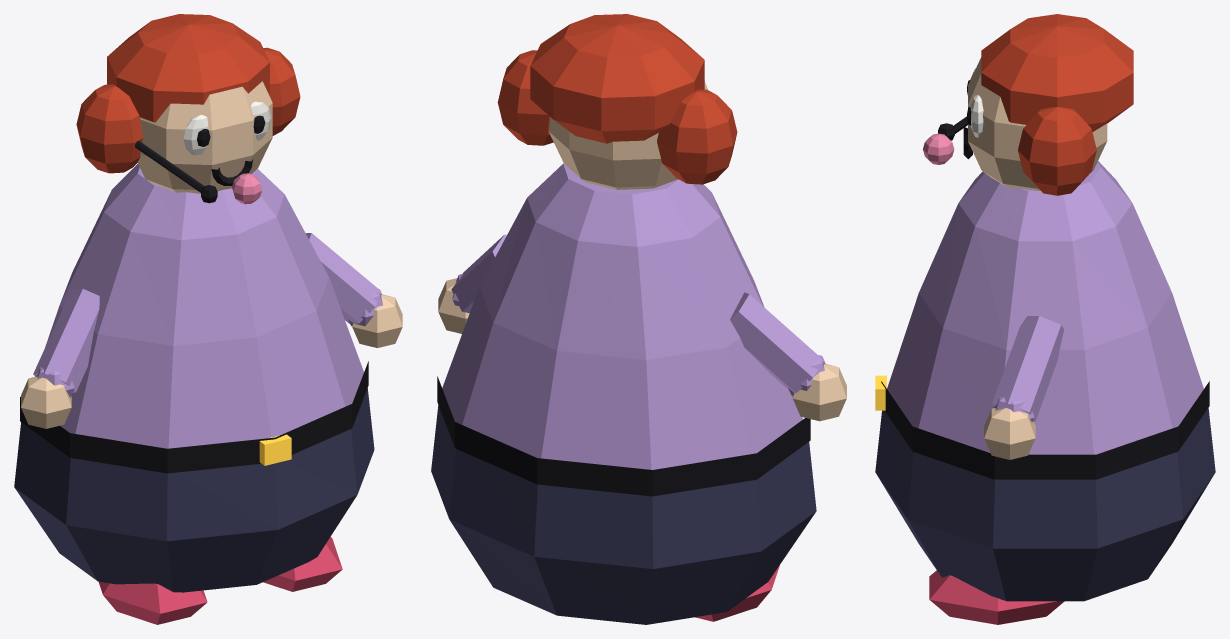
File: npc_recepcionista_seguros.glb
The picture shows the model from 3 angles, left to right: view 1: azimuth 30°, elevation 25°; view 2: azimuth 150°, elevation 25°; view 3: azimuth 270°, elevation 25°; orthographic projection. The views are drawn at different scales.
Visible parts, largest first — view 1: body_reception_cardigan, body_reception_skirt, head_hair_red_curls, head_skin_crema, body_black, arms_reception_cardigan, legs_reception_shoes, arms_skin_crema, face_white, props_black, body_gold, face_black (+1 smaller); view 2: body_reception_cardigan, body_reception_skirt, head_hair_red_curls, body_black, arms_reception_cardigan, head_skin_crema, arms_skin_crema, legs_reception_shoes; view 3: body_reception_cardigan, body_reception_skirt, head_hair_red_curls, body_black, arms_reception_cardigan, head_skin_crema, legs_reception_shoes, arms_skin_crema, face_gum_bubble, face_white.
Part boxes in pixels (x1,y1,x2,y2): body_reception_cardigan: (45, 164, 363, 448); body_reception_skirt: (14, 388, 374, 592); head_hair_red_curls: (76, 14, 300, 173); head_skin_crema: (137, 81, 272, 193); body_black: (20, 361, 368, 473); arms_reception_cardigan: (33, 233, 382, 397); legs_reception_shoes: (98, 536, 342, 624); arms_skin_crema: (21, 294, 402, 428); face_white: (183, 101, 271, 155); props_black: (135, 141, 217, 203); body_gold: (259, 434, 291, 465); face_black: (197, 115, 265, 185); body_reception_cardigan: (442, 163, 802, 469); body_reception_skirt: (431, 405, 816, 624); head_hair_red_curls: (497, 14, 737, 184); body_black: (437, 376, 810, 496); arms_reception_cardigan: (451, 234, 825, 395); head_skin_crema: (548, 82, 707, 189); arms_skin_crema: (438, 278, 846, 421); legs_reception_shoes: (695, 565, 779, 621); body_reception_cardigan: (887, 161, 1203, 454); body_reception_skirt: (875, 408, 1215, 601); head_hair_red_curls: (981, 14, 1133, 195); body_black: (881, 381, 1209, 479); arms_reception_cardigan: (992, 316, 1064, 422); head_skin_crema: (968, 57, 1107, 190); legs_reception_shoes: (929, 570, 1064, 624); arms_skin_crema: (984, 408, 1035, 459); face_gum_bubble: (923, 133, 954, 164); face_white: (970, 68, 983, 137).
Bounding box in the file's own units: 1.13 × 1.55 × 0.86.
